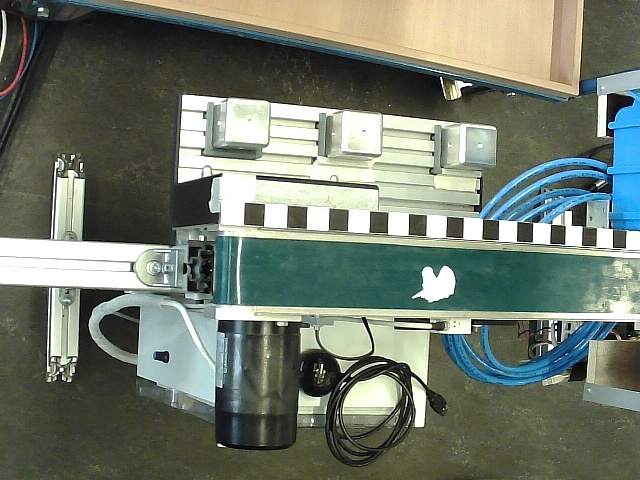unicorn: (410, 265, 457, 304)
